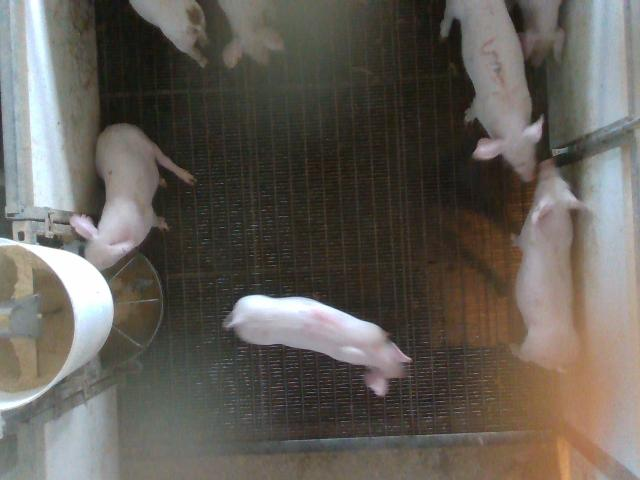pig-3: (441, 0, 542, 181)
pig-4: (222, 295, 411, 396)
